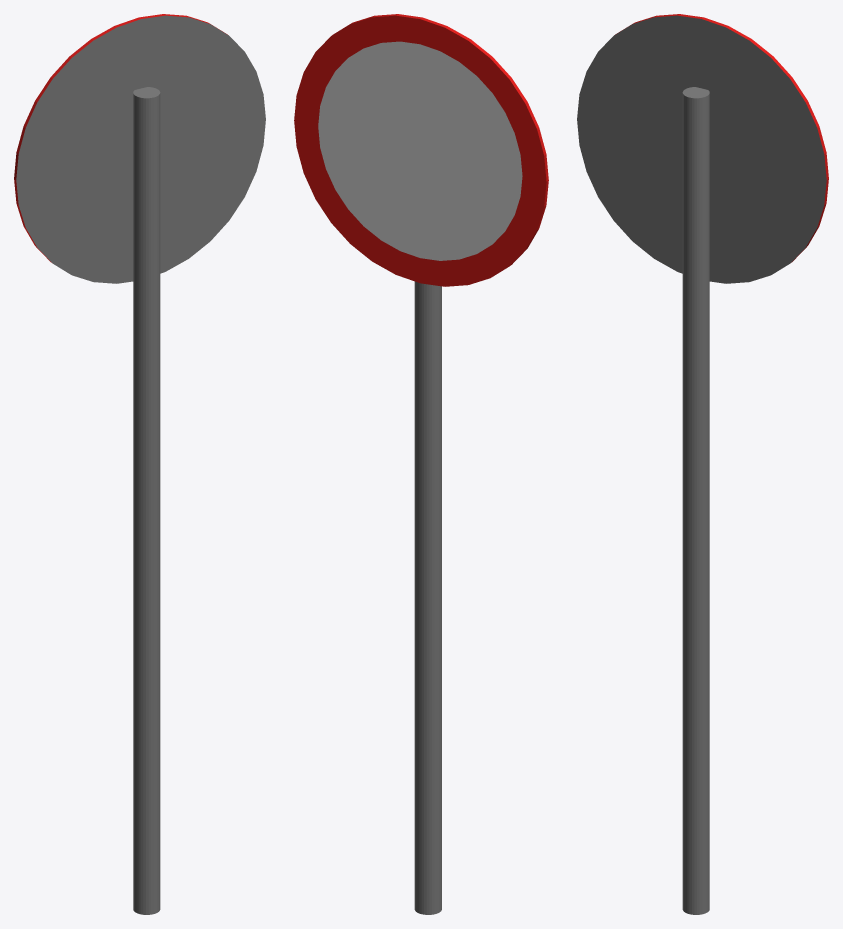
File: GenericRound.fbx
3 views of the same model, side by side, from view 1: azimuth 30°, elevation 25°; view 2: azimuth 150°, elevation 25°; view 3: azimuth 330°, elevation 25° (orthographic).
Visible parts, largest first — view 1: GenericRound; view 2: GenericRound; view 3: GenericRound.
Part boxes in pixels (x1,y1,x2,y2): GenericRound: (14, 14, 265, 914); GenericRound: (294, 14, 548, 914); GenericRound: (577, 14, 828, 914).
Bounding box in the file's own units: 6.5 × 217 × 64.
